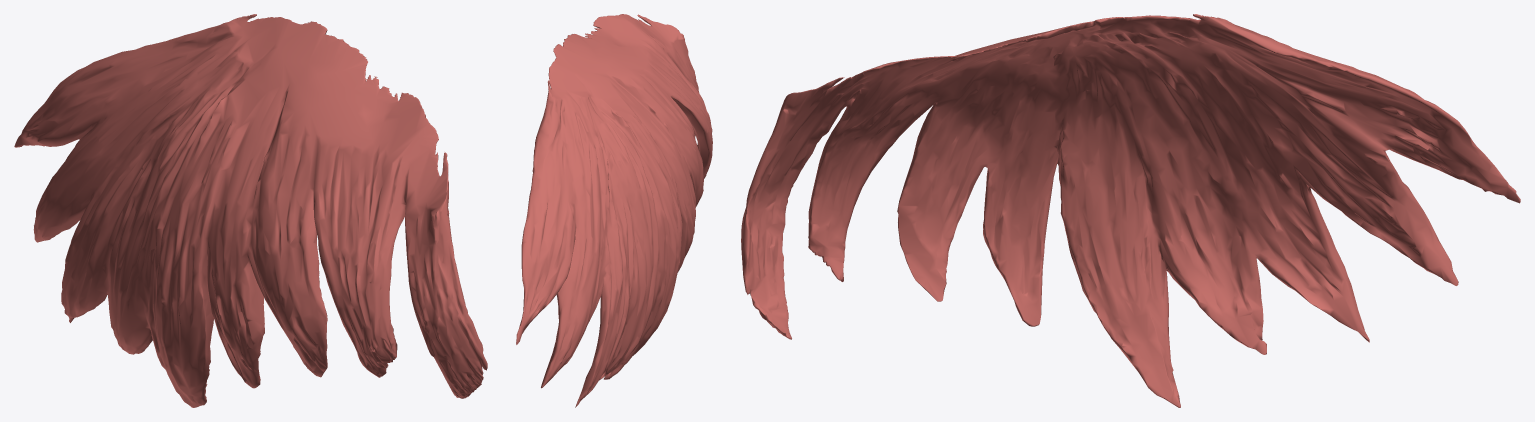
The picture shows the model from 3 angles, left to right: view 1: azimuth 30°, elevation 25°; view 2: azimuth 150°, elevation 25°; view 3: azimuth 270°, elevation 25°; orthographic projection. The views are drawn at different scales.
Visible parts, largest first — view 1: 右侧前锯肌; view 2: 右侧前锯肌; view 3: 右侧前锯肌.
Part boxes in pixels (x1,y1,x2,y2): 右侧前锯肌: (14, 14, 487, 407); 右侧前锯肌: (516, 14, 712, 407); 右侧前锯肌: (741, 14, 1520, 407).
Bounding box in the file's own units: 0.1275 × 0.2536 × 0.4047.
